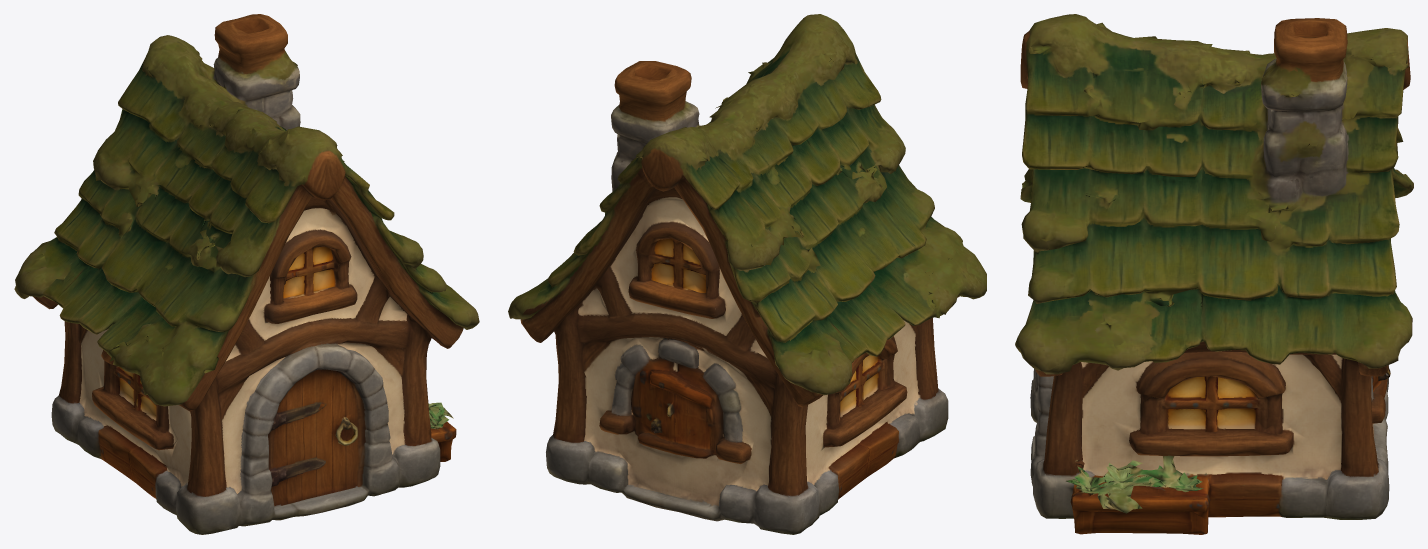
The model's file is storybook-cottage.glb.
The picture shows the model from 3 angles, left to right: view 1: azimuth 30°, elevation 25°; view 2: azimuth 150°, elevation 25°; view 3: azimuth 270°, elevation 25°; orthographic projection. The views are drawn at different scales.
Size of the model in its own units: 0.883 by 0.9988 by 0.795.
Materials: 1 (1 with a texture image).
